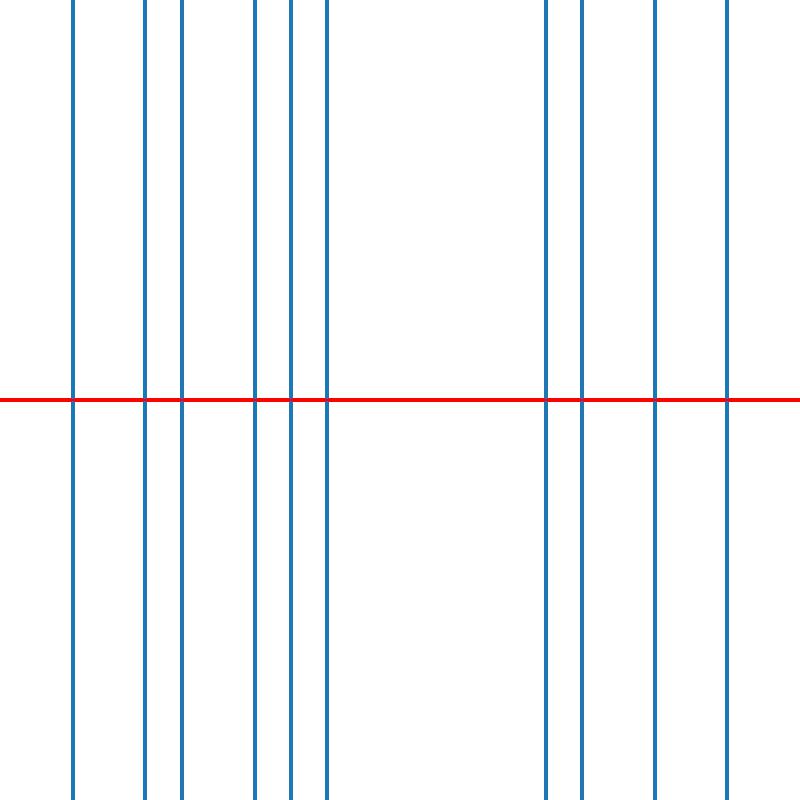root: (250, 396, 258, 404), (650, 396, 658, 404), (541, 396, 549, 404), (141, 396, 149, 404), (723, 396, 730, 404), (578, 396, 585, 404), (178, 396, 185, 404), (69, 396, 76, 404), (287, 396, 294, 404), (323, 396, 330, 404)
